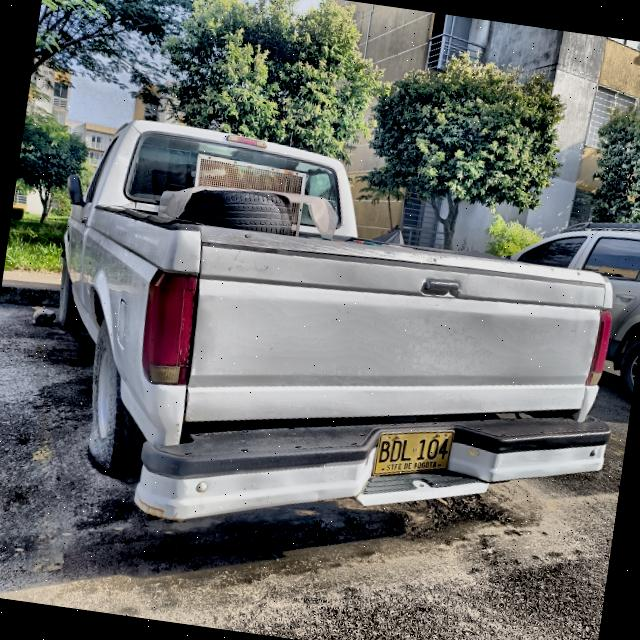0: (426, 437, 440, 461)
1: (415, 438, 428, 461)
4: (437, 437, 449, 460)
B: (378, 440, 392, 465)
D: (389, 440, 404, 463)
L: (400, 438, 413, 462)
